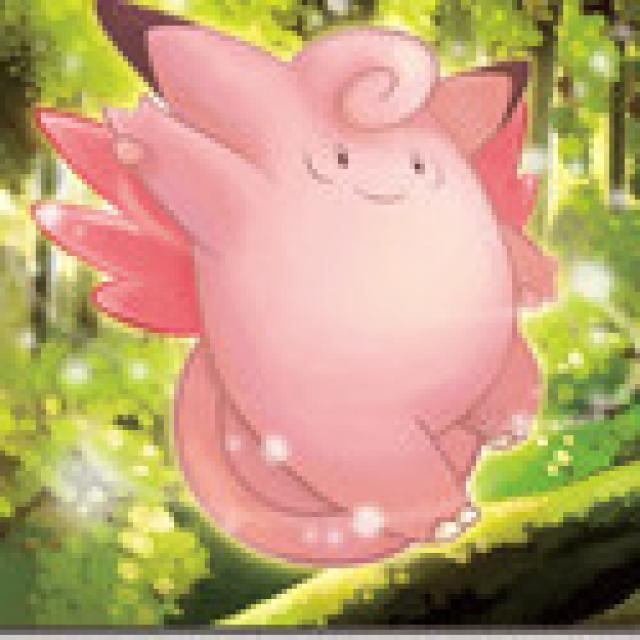Clefable: (50, 5, 540, 564)
